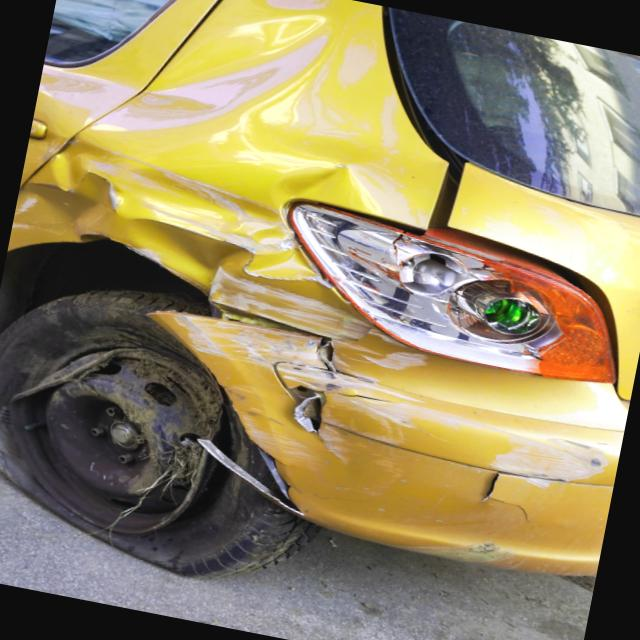Dechirure: (280, 329, 367, 468)
Phare abime: (269, 185, 636, 395)
Rayure: (0, 141, 438, 477), (481, 424, 616, 525)
